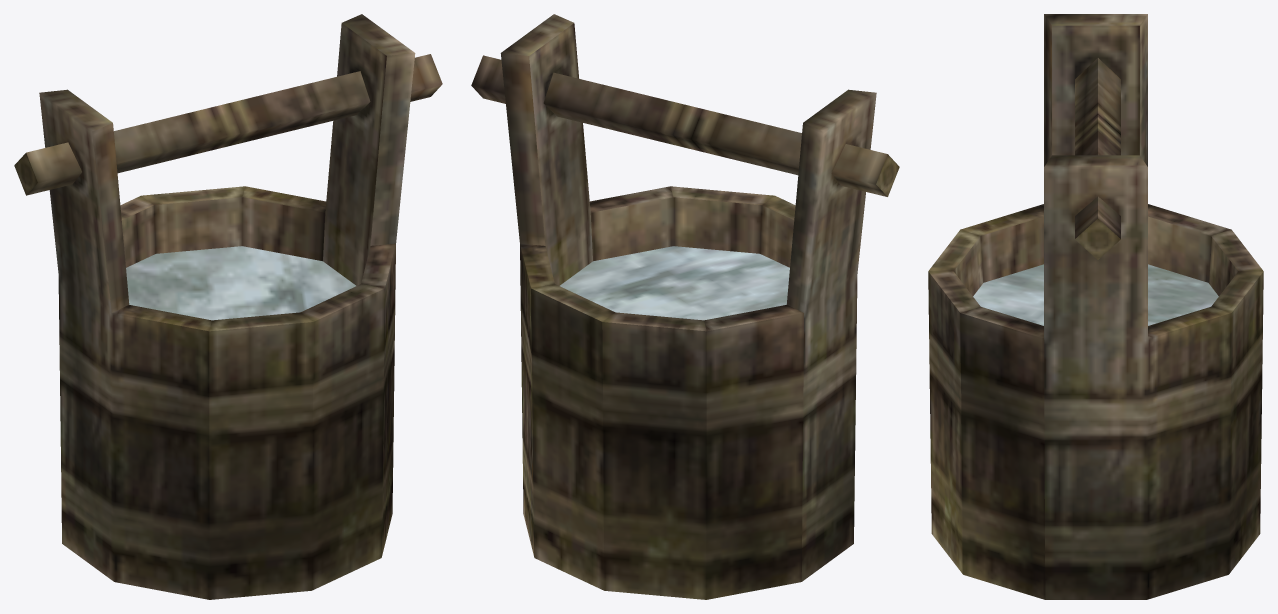
Rendered from bg_anh_etc_pot_sm_cwk.FBX.
3 views of the same model, side by side, from view 1: azimuth 30°, elevation 25°; view 2: azimuth 150°, elevation 25°; view 3: azimuth 270°, elevation 25° (orthographic). The views are drawn at different scales.
Visible parts, largest first — view 1: bg_anh_etc_pot_sm_cwk; view 2: bg_anh_etc_pot_sm_cwk; view 3: bg_anh_etc_pot_sm_cwk.
Part boxes in pixels (bbox=[...]): bg_anh_etc_pot_sm_cwk: bbox=[14, 14, 442, 599]; bg_anh_etc_pot_sm_cwk: bbox=[471, 14, 899, 599]; bg_anh_etc_pot_sm_cwk: bbox=[928, 14, 1263, 599].
Size of the model in its own units: 41.02 by 44.18 by 30.29.
